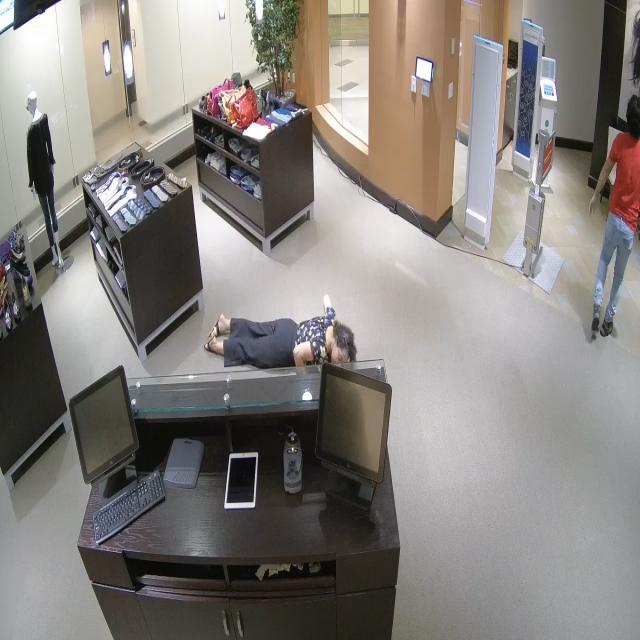fall: (200, 271, 367, 396)
normal: (566, 76, 640, 361)
